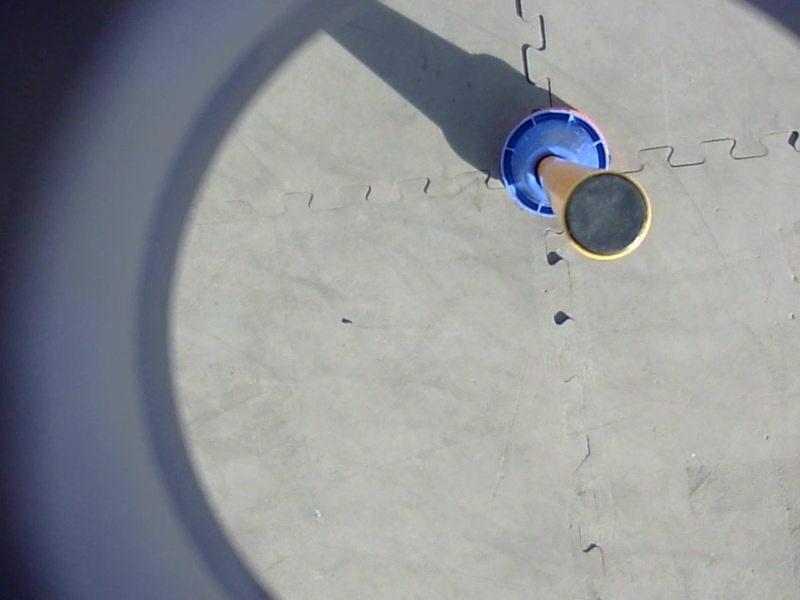tip: (557, 164, 659, 268)
